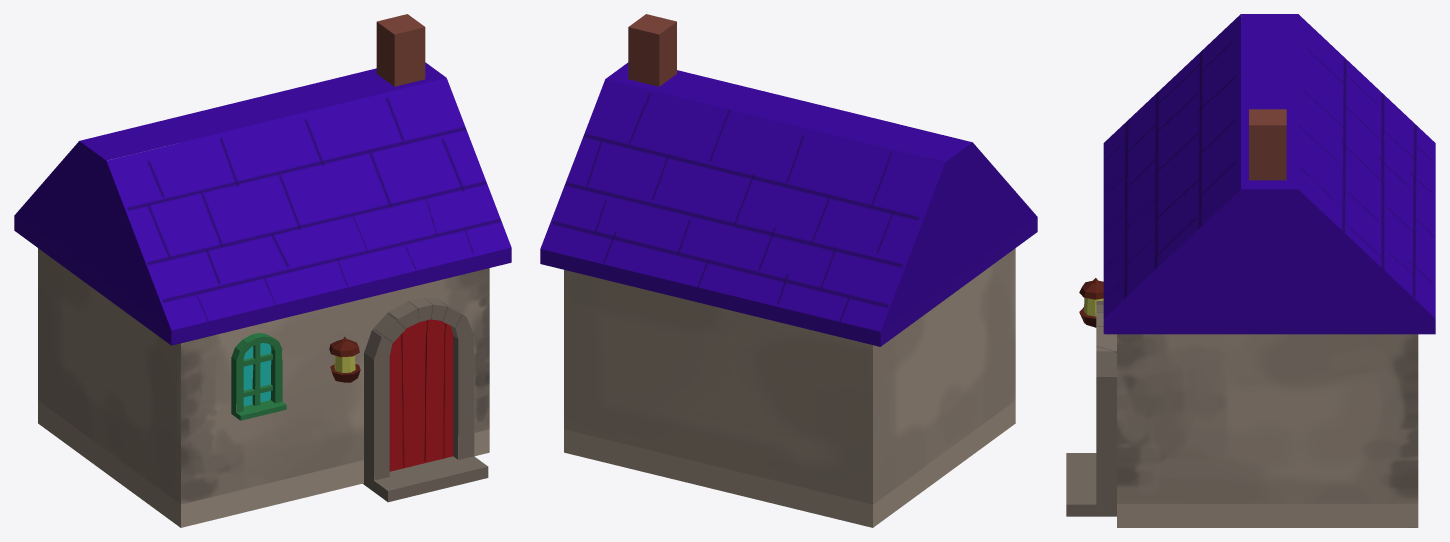
The model's file is tiny_house.fbx.
3 renders of one model, left to right at view 1: azimuth 30°, elevation 25°; view 2: azimuth 150°, elevation 25°; view 3: azimuth 270°, elevation 25°, orthographic. The views are drawn at different scales.
Parts seen in each view (by area): view 1: SmallHouse; view 2: SmallHouse; view 3: SmallHouse.
Part boxes in pixels (<box>): SmallHouse: <box>14,14,511,527</box>; SmallHouse: <box>540,14,1037,527</box>; SmallHouse: <box>1066,14,1435,527</box>.
Size of the model in its own units: 1079 by 1158 by 960.
Materials: 1 (1 with a texture image).
